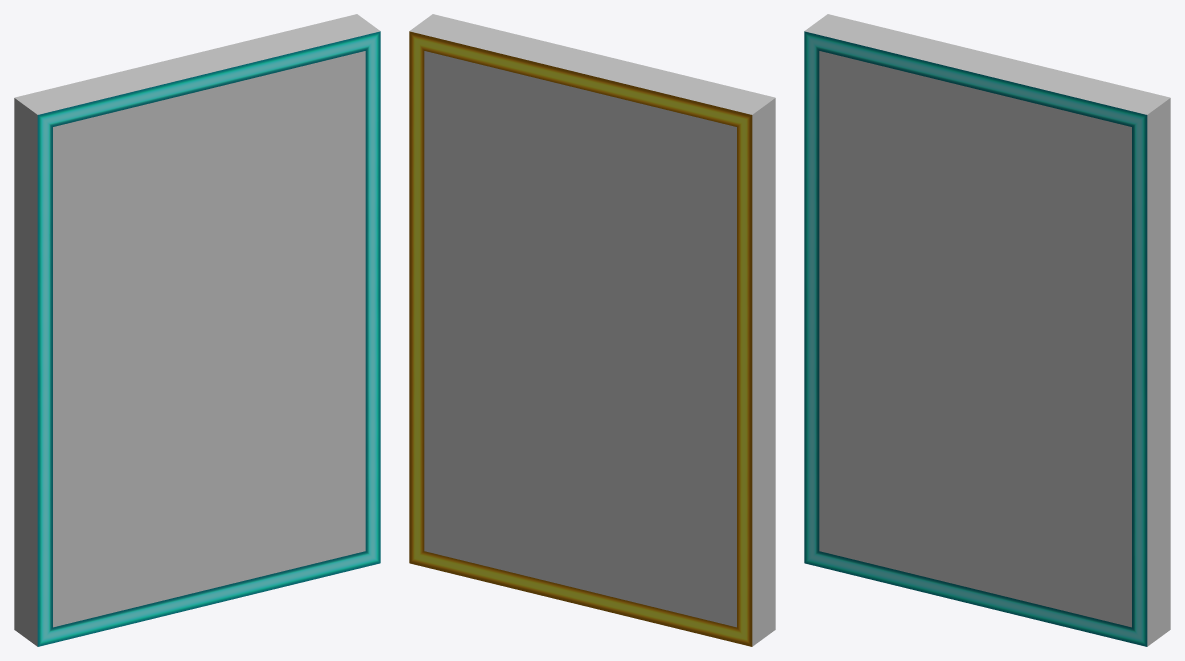
File: sign_01b.fbx
3 renders of one model, left to right at view 1: azimuth 30°, elevation 25°; view 2: azimuth 150°, elevation 25°; view 3: azimuth 330°, elevation 25°, orthographic.
Parts seen in each view (by area): view 1: sign_01b; view 2: sign_01b; view 3: sign_01b.
Boxes of the visible parts, <box> form: sign_01b: <box>14,14,380,646</box>; sign_01b: <box>409,14,775,646</box>; sign_01b: <box>804,14,1170,646</box>.
Size of the model in its own units: 1.57 by 2.33 by 0.1878.
